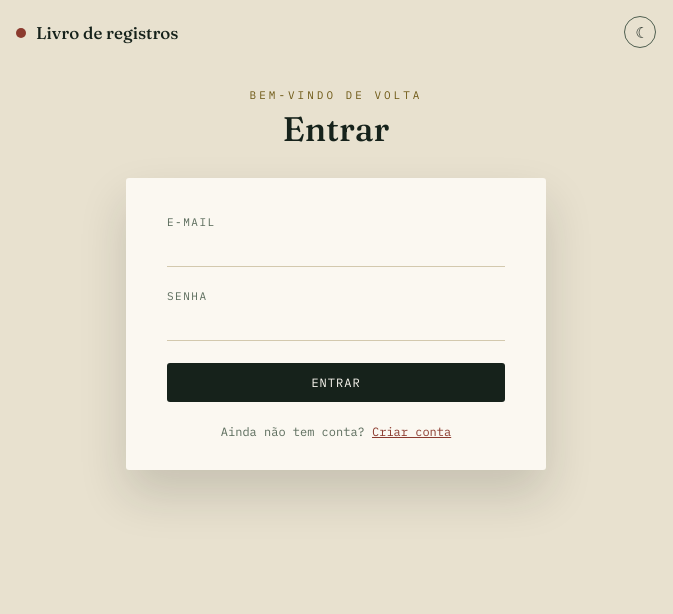
LoginPage › leva para o cadastro
Click the link "Criar conta" at x=412, y=432, box [372, 424, 451, 439]
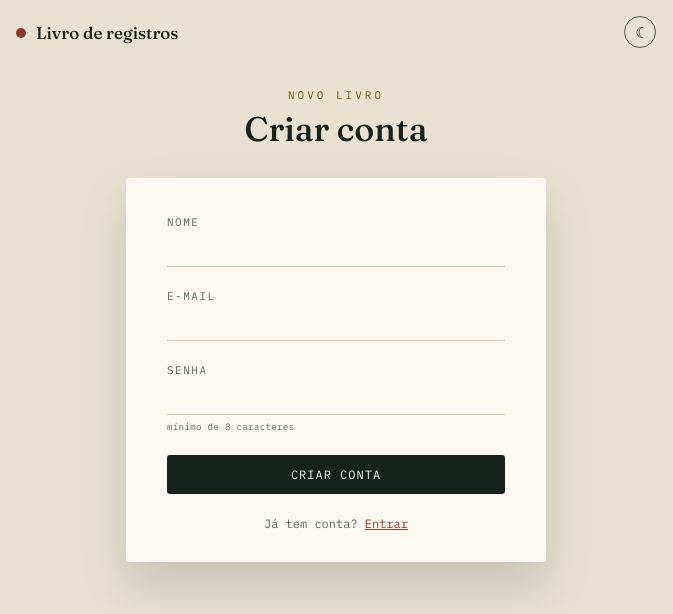
Expected: the heading "Criar conta" is shown, [245, 108, 427, 150]
